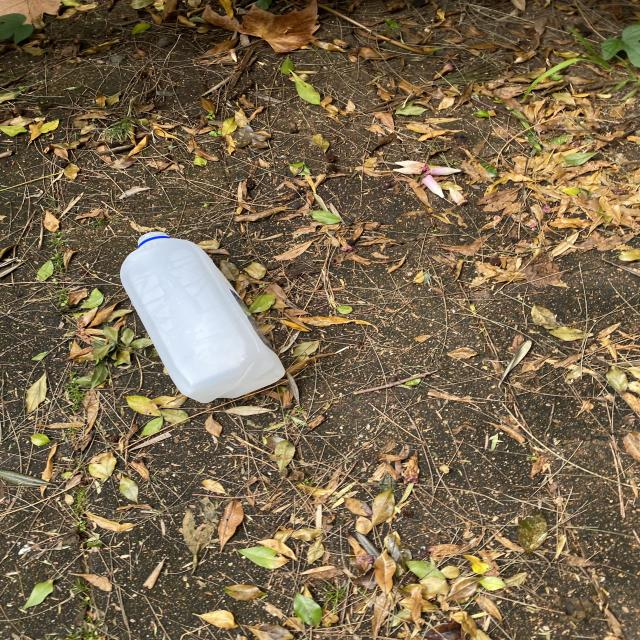bottle: (121, 230, 290, 408)
